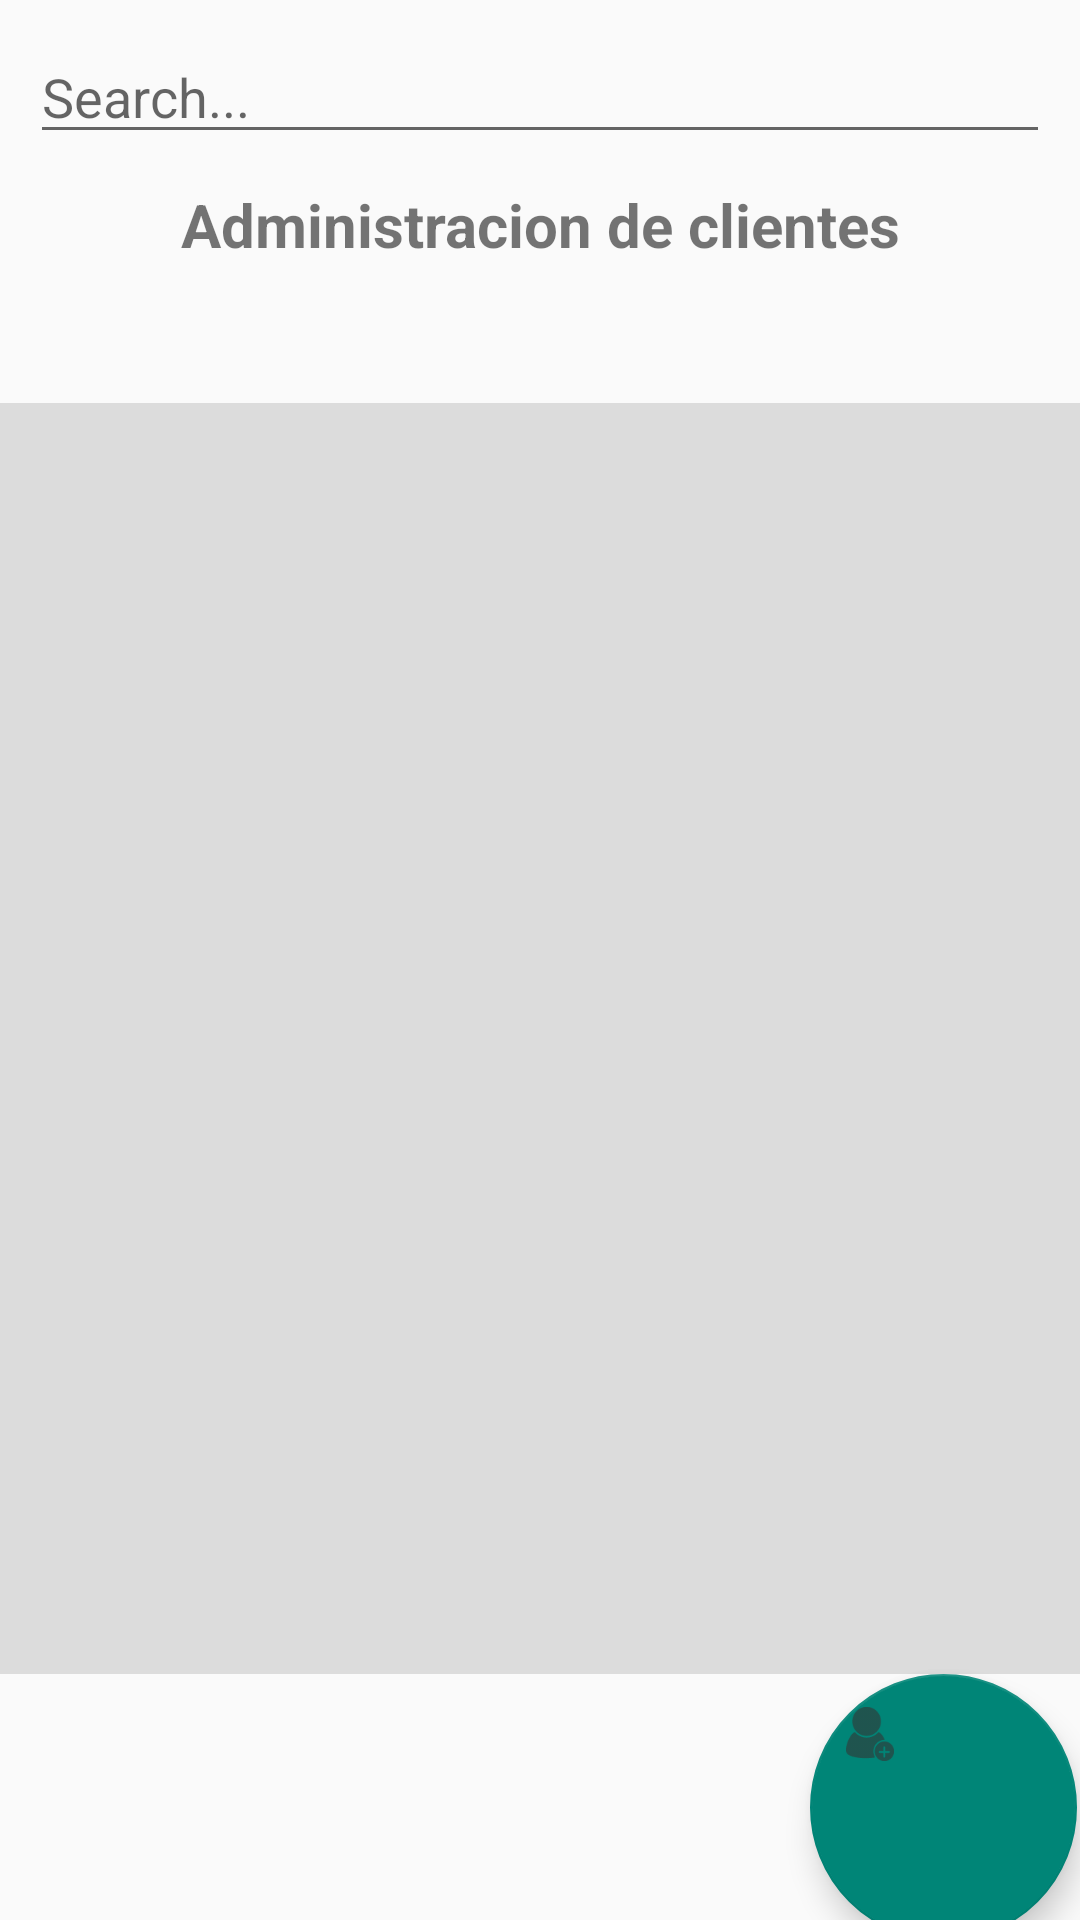

Where to tap for icons on this 1080x1920 app screen, as point (x, y):
usuarios: point (943, 1797)
